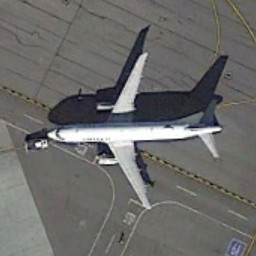Airplane: (45, 47, 228, 216)
